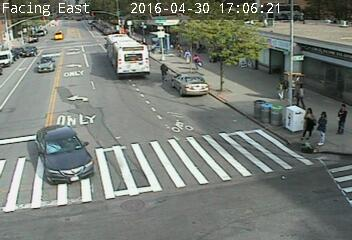neg: (7, 120, 36, 160), (13, 64, 40, 100), (143, 122, 166, 153), (142, 160, 164, 190), (56, 39, 78, 69), (185, 127, 205, 154), (215, 176, 234, 202), (249, 173, 268, 198), (315, 156, 334, 181), (107, 41, 125, 66), (48, 169, 66, 193), (93, 183, 111, 207), (69, 95, 86, 118), (234, 142, 250, 163), (66, 132, 81, 153), (236, 88, 251, 108), (102, 134, 117, 154), (187, 82, 202, 101), (157, 59, 170, 78), (110, 78, 119, 90)
pos: (308, 108, 335, 144), (326, 97, 351, 135), (297, 107, 322, 140), (272, 74, 292, 100), (293, 80, 312, 106), (179, 46, 193, 64), (188, 53, 201, 70), (174, 41, 184, 54)
